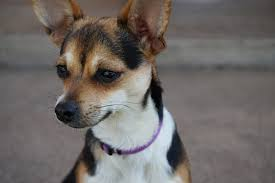chihuahua: (28, 1, 197, 182)
